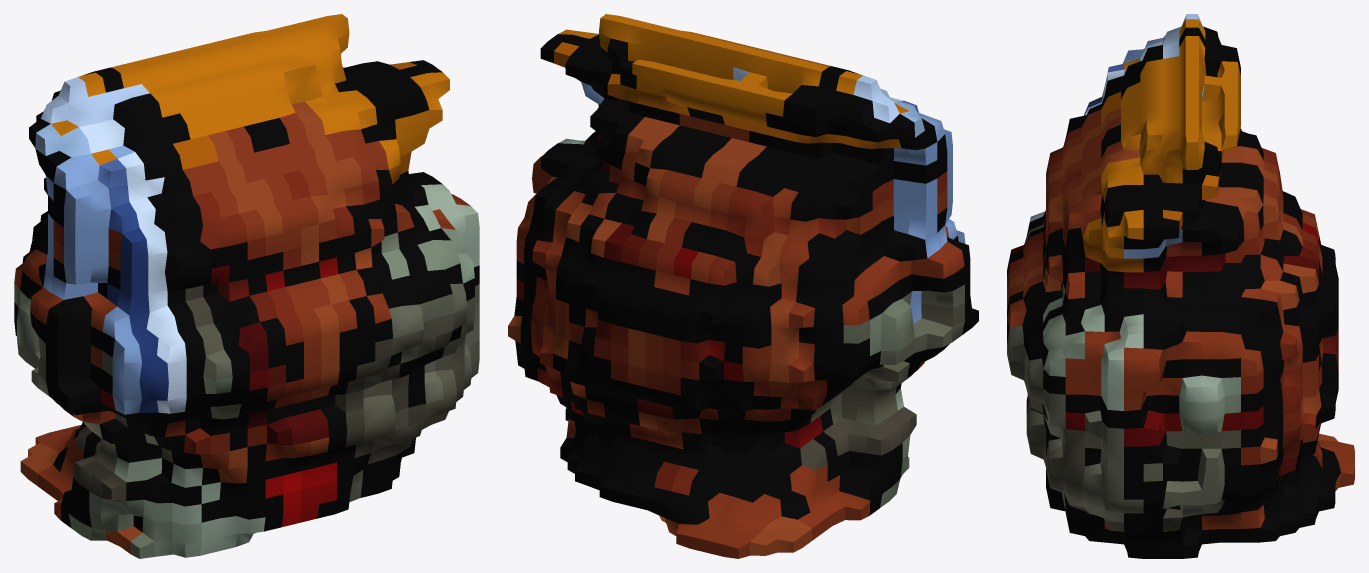
Rendered from Icon_015_03.obj.
3 renders of one model, left to right at view 1: azimuth 30°, elevation 25°; view 2: azimuth 150°, elevation 25°; view 3: azimuth 270°, elevation 25°, orthographic. The views are drawn at different scales.
Size of the model in its own units: 2.4 by 2.38 by 1.78.
1 material, 1 textured.
